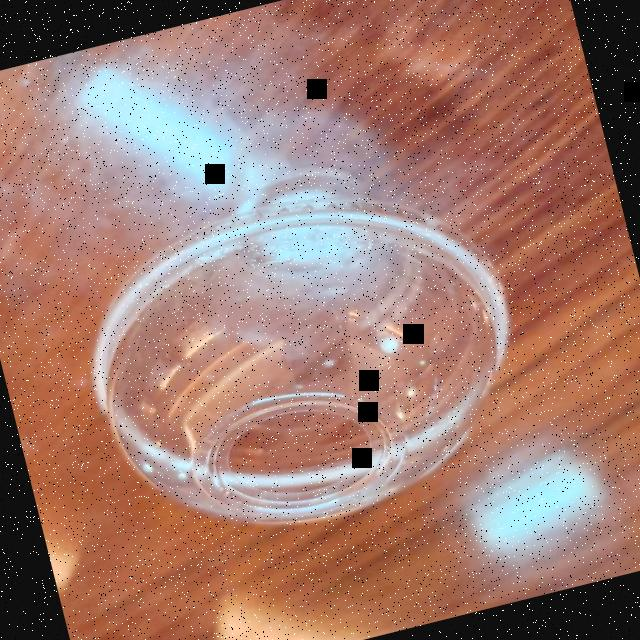plastic_cup_lid: (46, 144, 556, 582)
